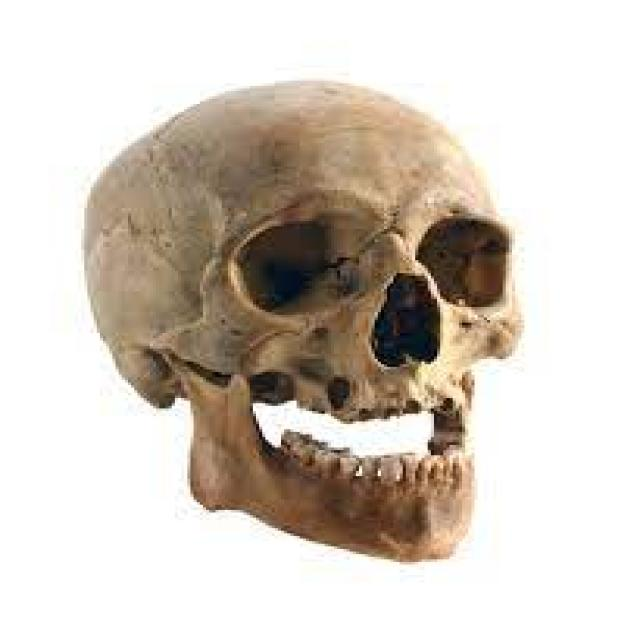skull: (65, 74, 524, 580)
